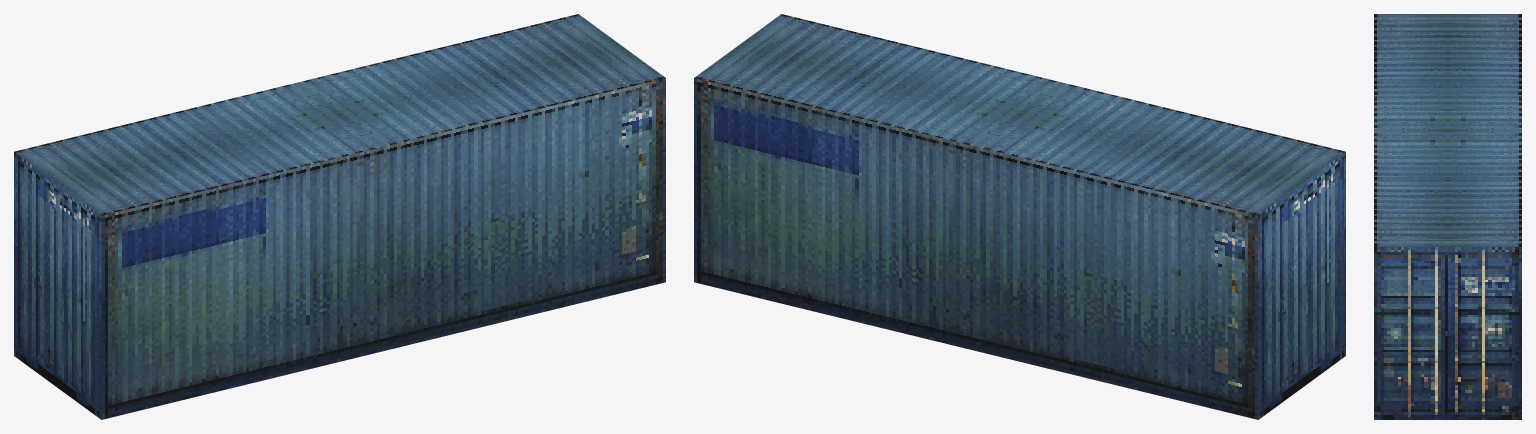
The model's file is container_4.glb.
3 views of the same model, side by side, from view 1: azimuth 30°, elevation 25°; view 2: azimuth 150°, elevation 25°; view 3: azimuth 270°, elevation 25° (orthographic). The views are drawn at different scales.
Visible parts, largest first — view 1: Object_42; view 2: Object_42; view 3: Object_42.
Boxes of the visible parts, x1,y1,x2,y2 form: Object_42: (14, 14, 665, 419); Object_42: (694, 14, 1345, 419); Object_42: (1374, 14, 1521, 419).
Size of the model in its own units: 6.06 by 2.1 by 1.63.
1 material, 1 textured.
